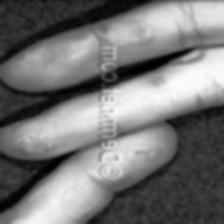Unclassified: (130, 23, 154, 44), (148, 75, 170, 90)
